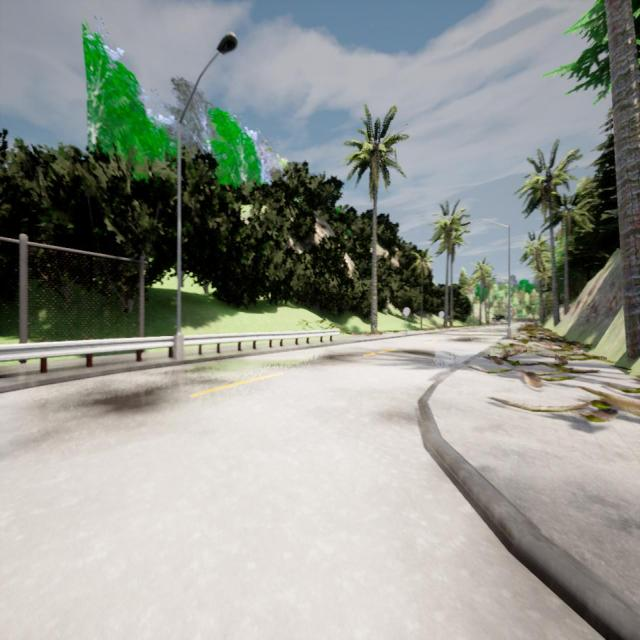Traffic_Signs: (402, 306, 411, 316), (438, 310, 445, 318), (508, 307, 514, 315)
